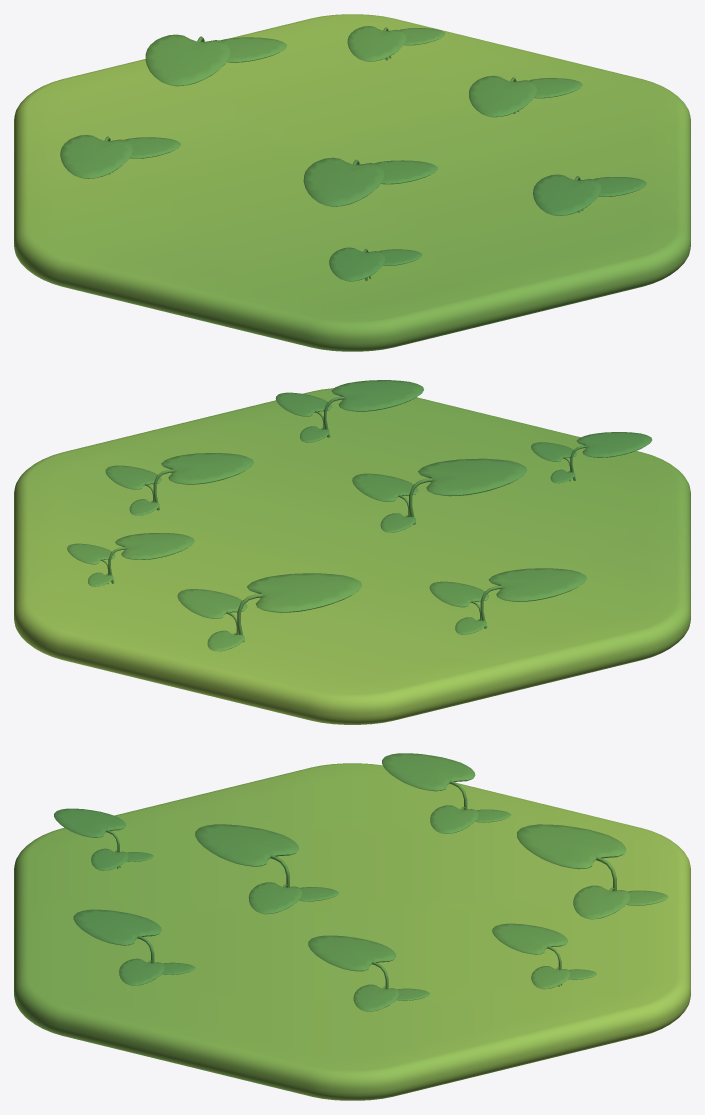
Rendered from grass.fbx.
The picture shows the model from 3 angles, top to bottom: view 1: azimuth 30°, elevation 25°; view 2: azimuth 150°, elevation 25°; view 3: azimuth 270°, elevation 25°; orthographic projection.
Visible parts, largest first — view 1: NurbsPath.004; view 2: NurbsPath.004; view 3: NurbsPath.004.
Boxes of the visible parts, x1,y1,x2,y2 form: NurbsPath.004: [14, 14, 690, 351]; NurbsPath.004: [14, 380, 690, 724]; NurbsPath.004: [14, 753, 690, 1100].
Size of the model in its own units: 36.04 by 4.01 by 32.47.
